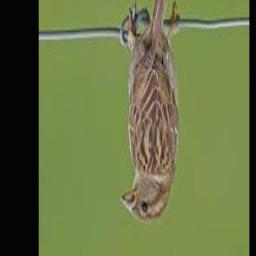Sparrow: (120, 0, 178, 225)
